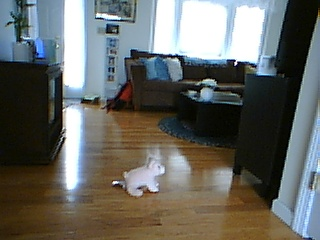piggy: (122, 156, 165, 197)
